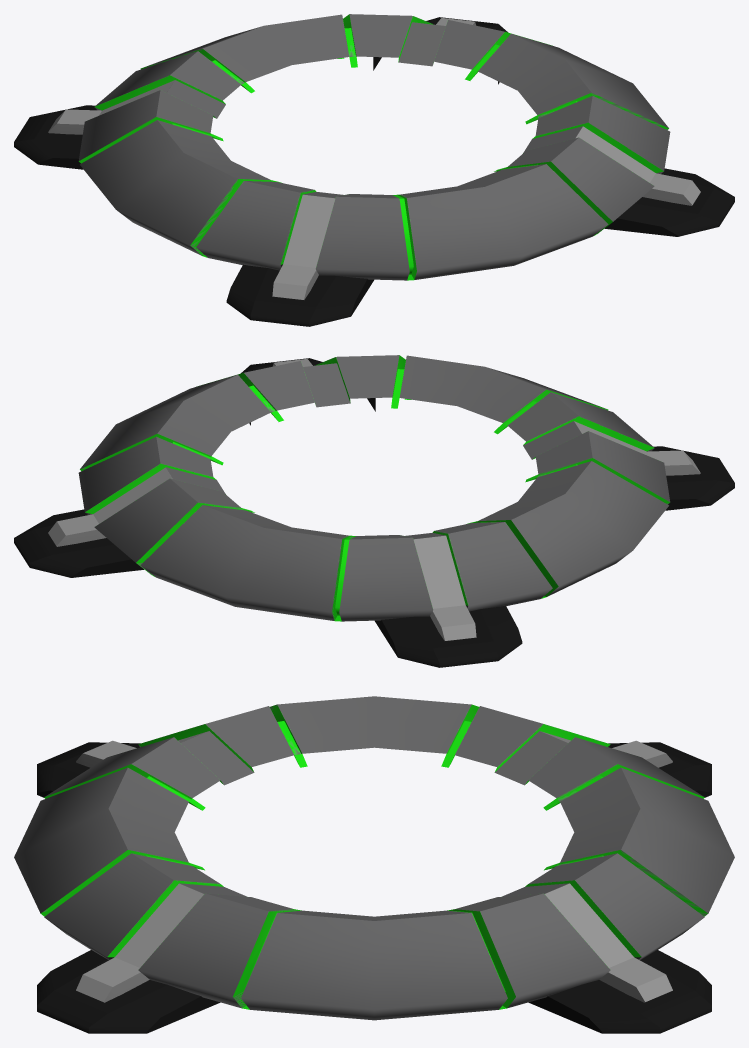
The model's file is ButtonBaseTriangle.glb.
3 renders of one model, top to bottom at view 1: azimuth 30°, elevation 25°; view 2: azimuth 150°, elevation 25°; view 3: azimuth 270°, elevation 25°, orthographic. The views are drawn at different scales.
Visible parts, largest first — view 1: Cube.012; view 2: Cube.012; view 3: Cube.012.
Boxes of the visible parts, x1=… form: Cube.012: x1=14, y1=14, x2=734, y2=326; Cube.012: x1=14, y1=355, x2=734, y2=667; Cube.012: x1=14, y1=696, x2=734, y2=1033.
Size of the model in its own units: 2.03 by 0.2674 by 2.03.
1 material, 1 textured.
